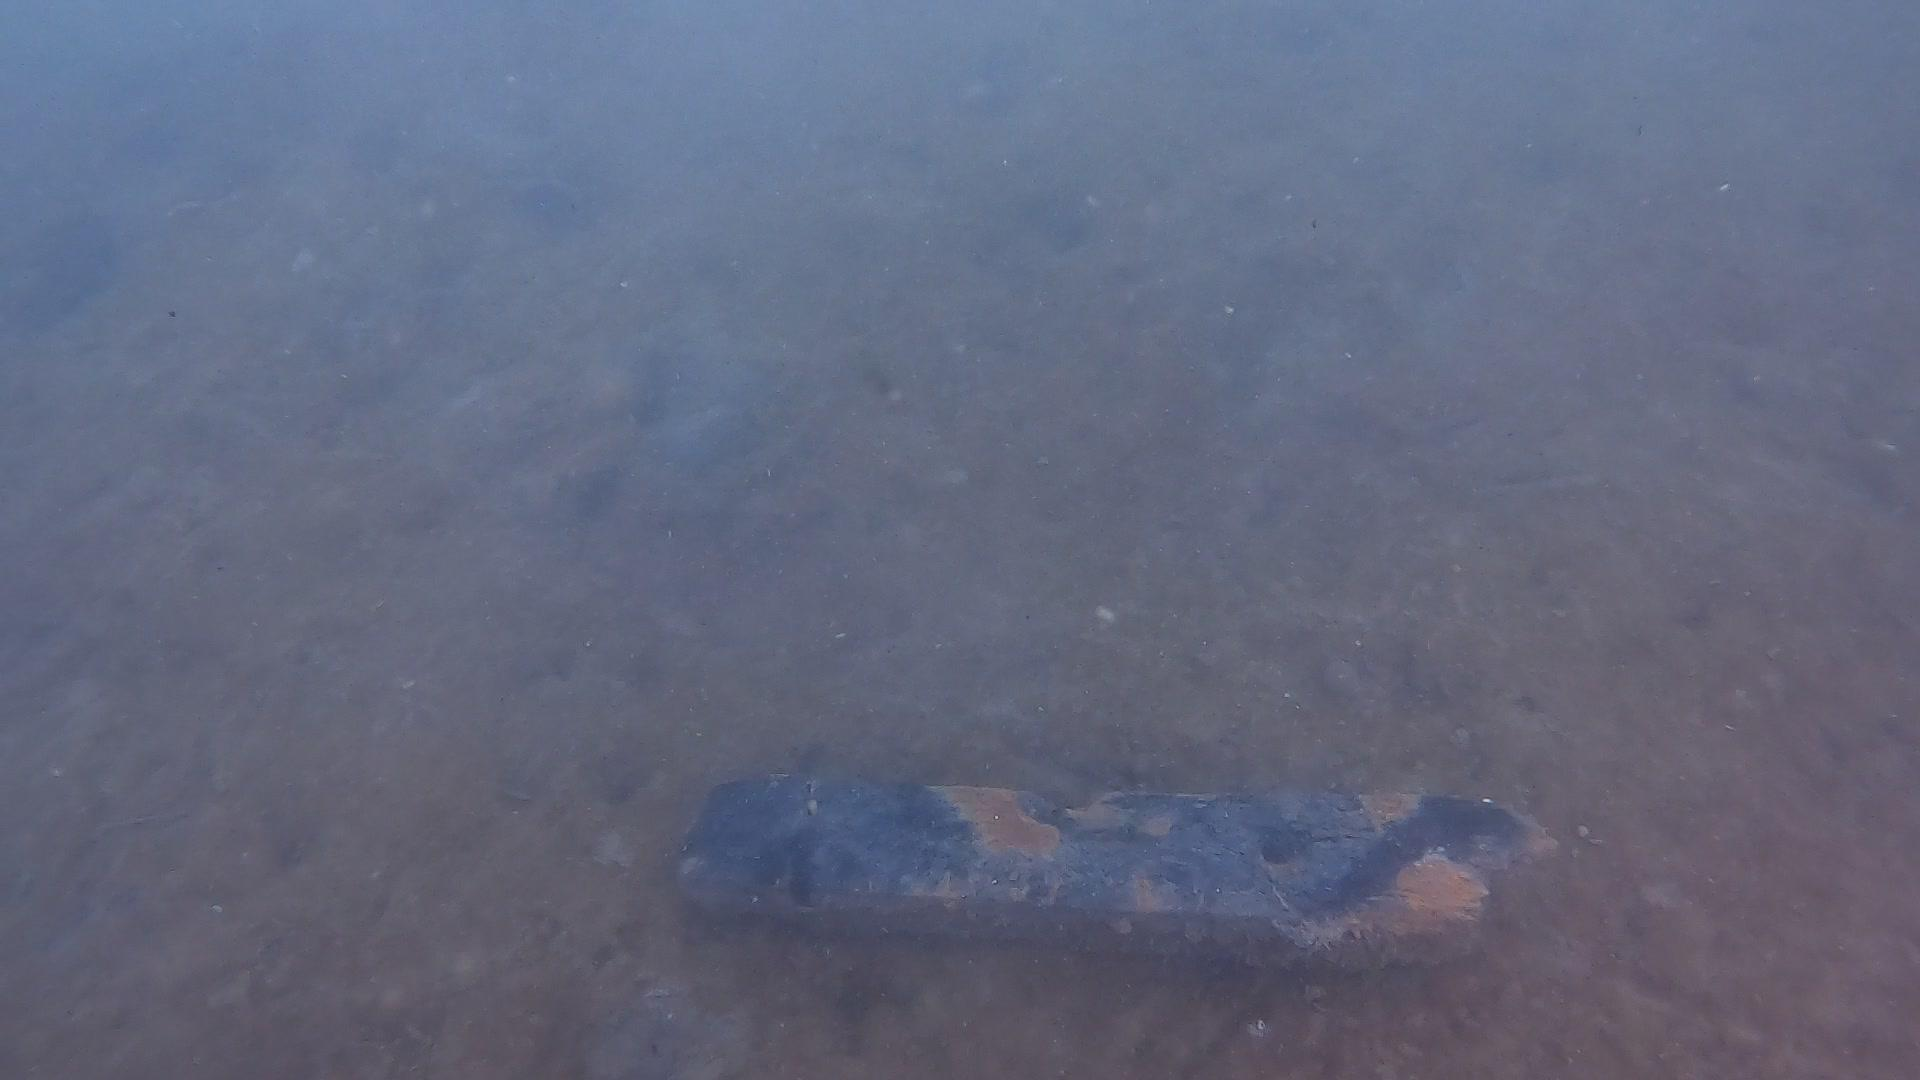wood: (671, 771, 1560, 972)
